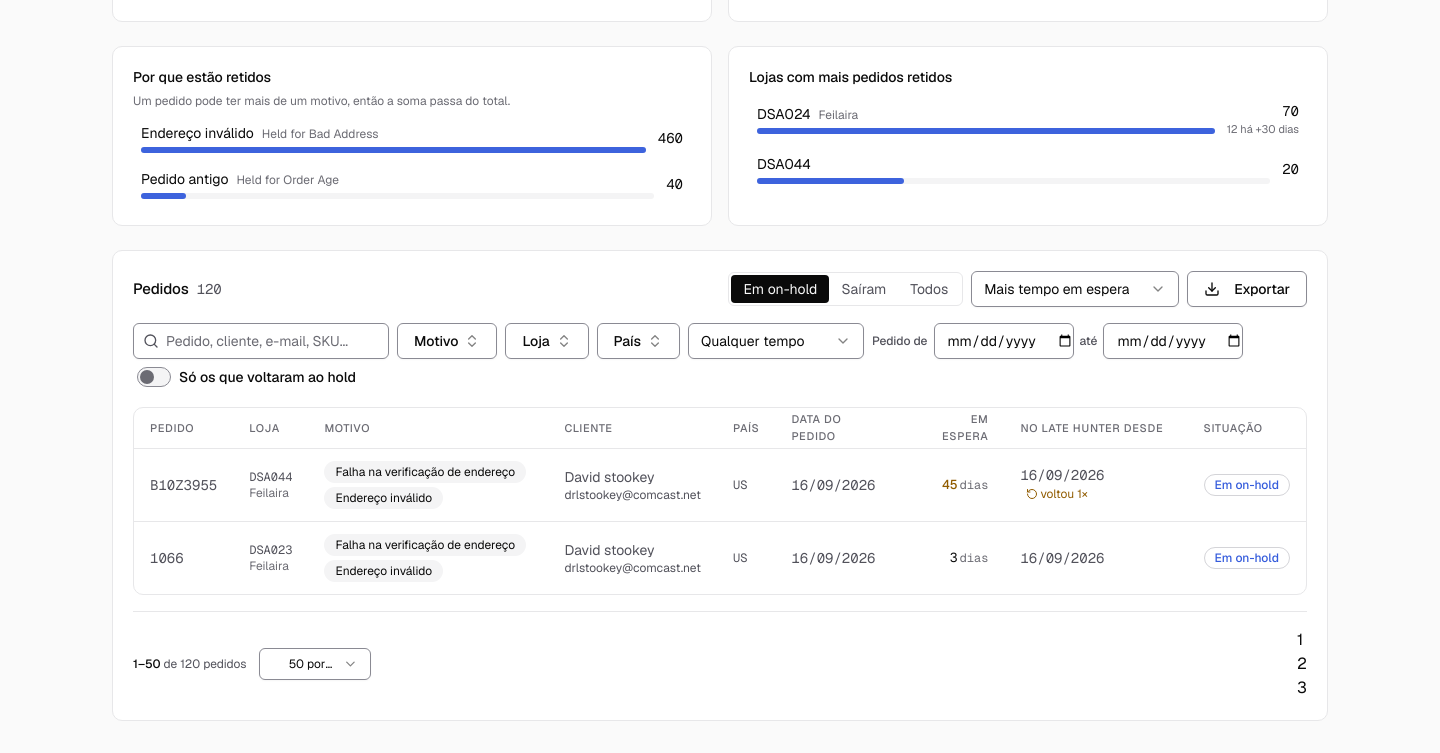
Test: ProdutosLateHunter › clicar no pedido abre o detalhe com endereço, itens e linha do tempo
(page scrolled)
Click the row named "Abrir pedido B10Z3955" at (720, 484), box x1=134 y1=448 x2=1306 y2=521
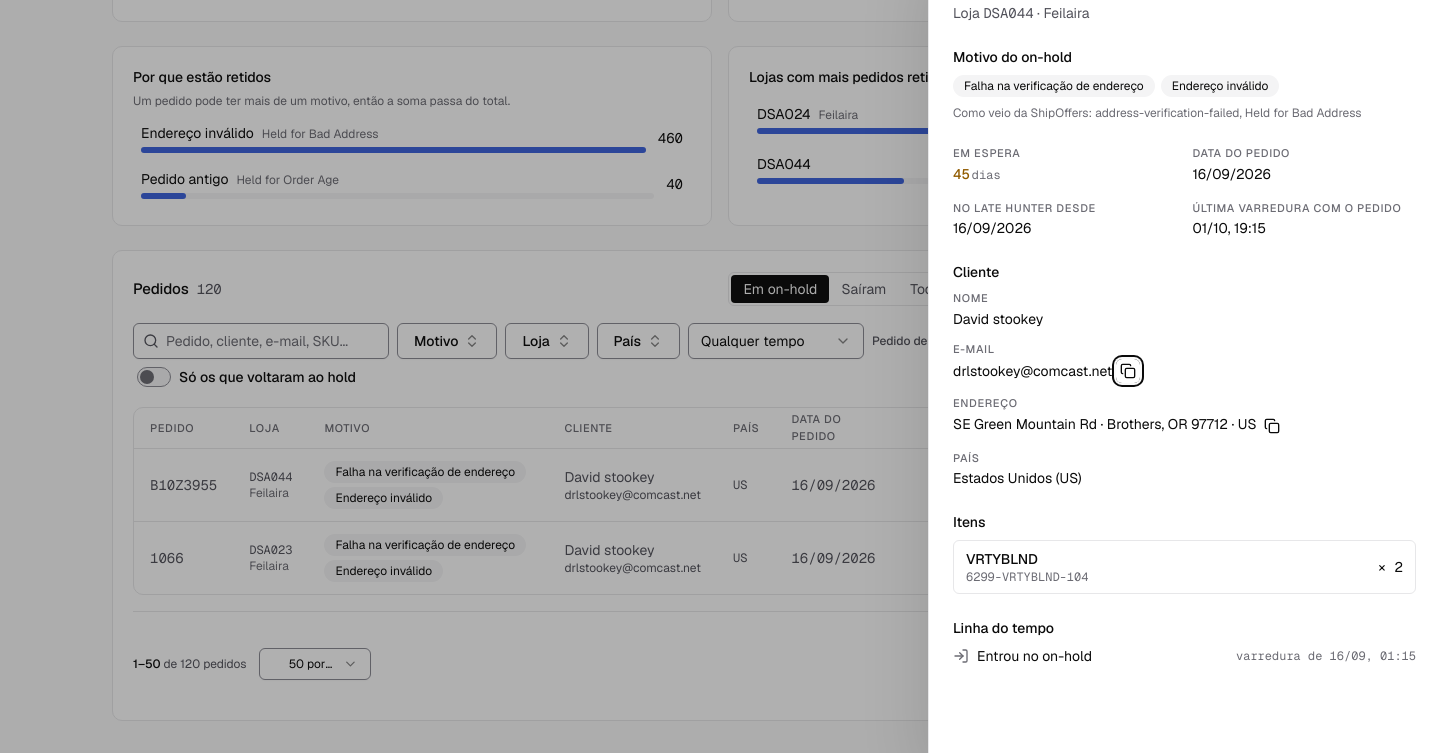
Expected: the text "SE Green Mountain Rd · Brothers, OR 97712 · US" is shown, x1=953 y1=414 x2=1256 y2=434
Expected: the text "VRTYBLND" is shown, x1=966 y1=550 x2=1038 y2=568
Expected: the text "Entrou no on-hold" is shown, x1=977 y1=646 x2=1092 y2=666
